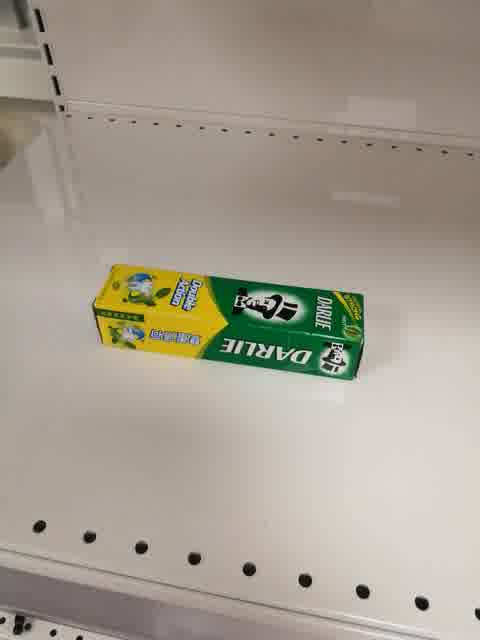toothpaste: (92, 264, 363, 383)
